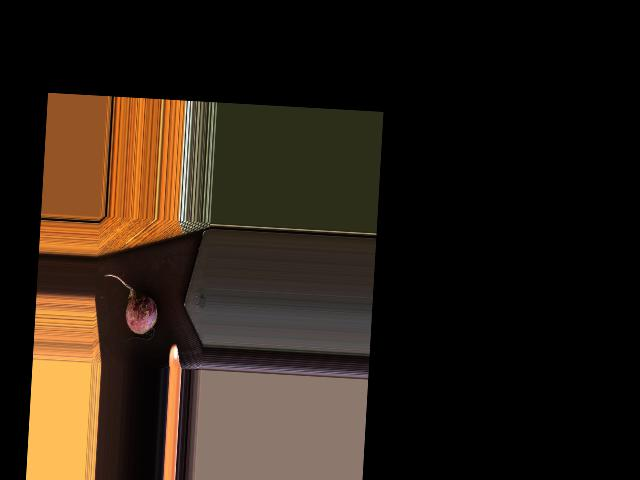beet: (101, 273, 159, 345)
